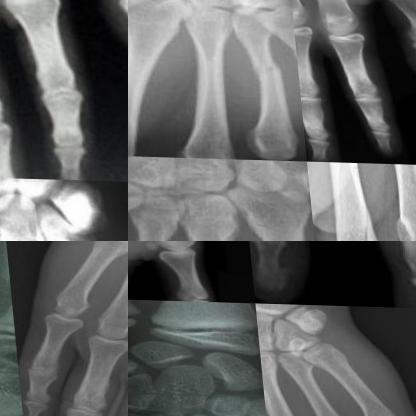fracture: (337, 188, 374, 240), (241, 49, 285, 86)
